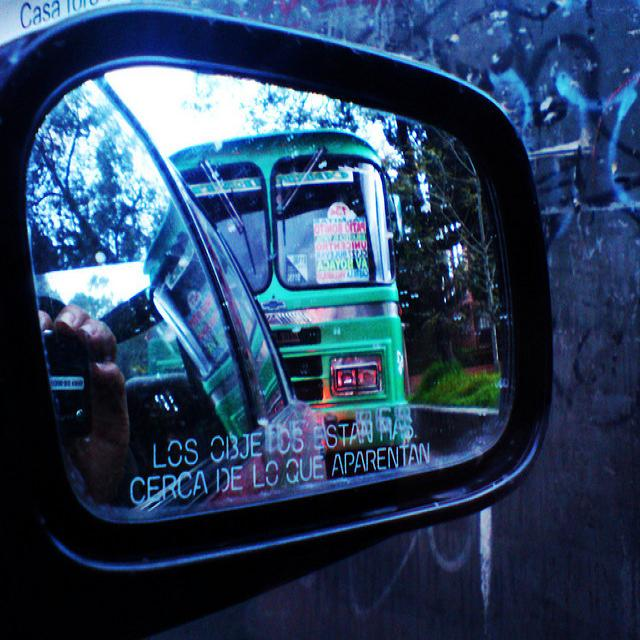Vehicle: (26, 78, 324, 509), (165, 128, 417, 472)
